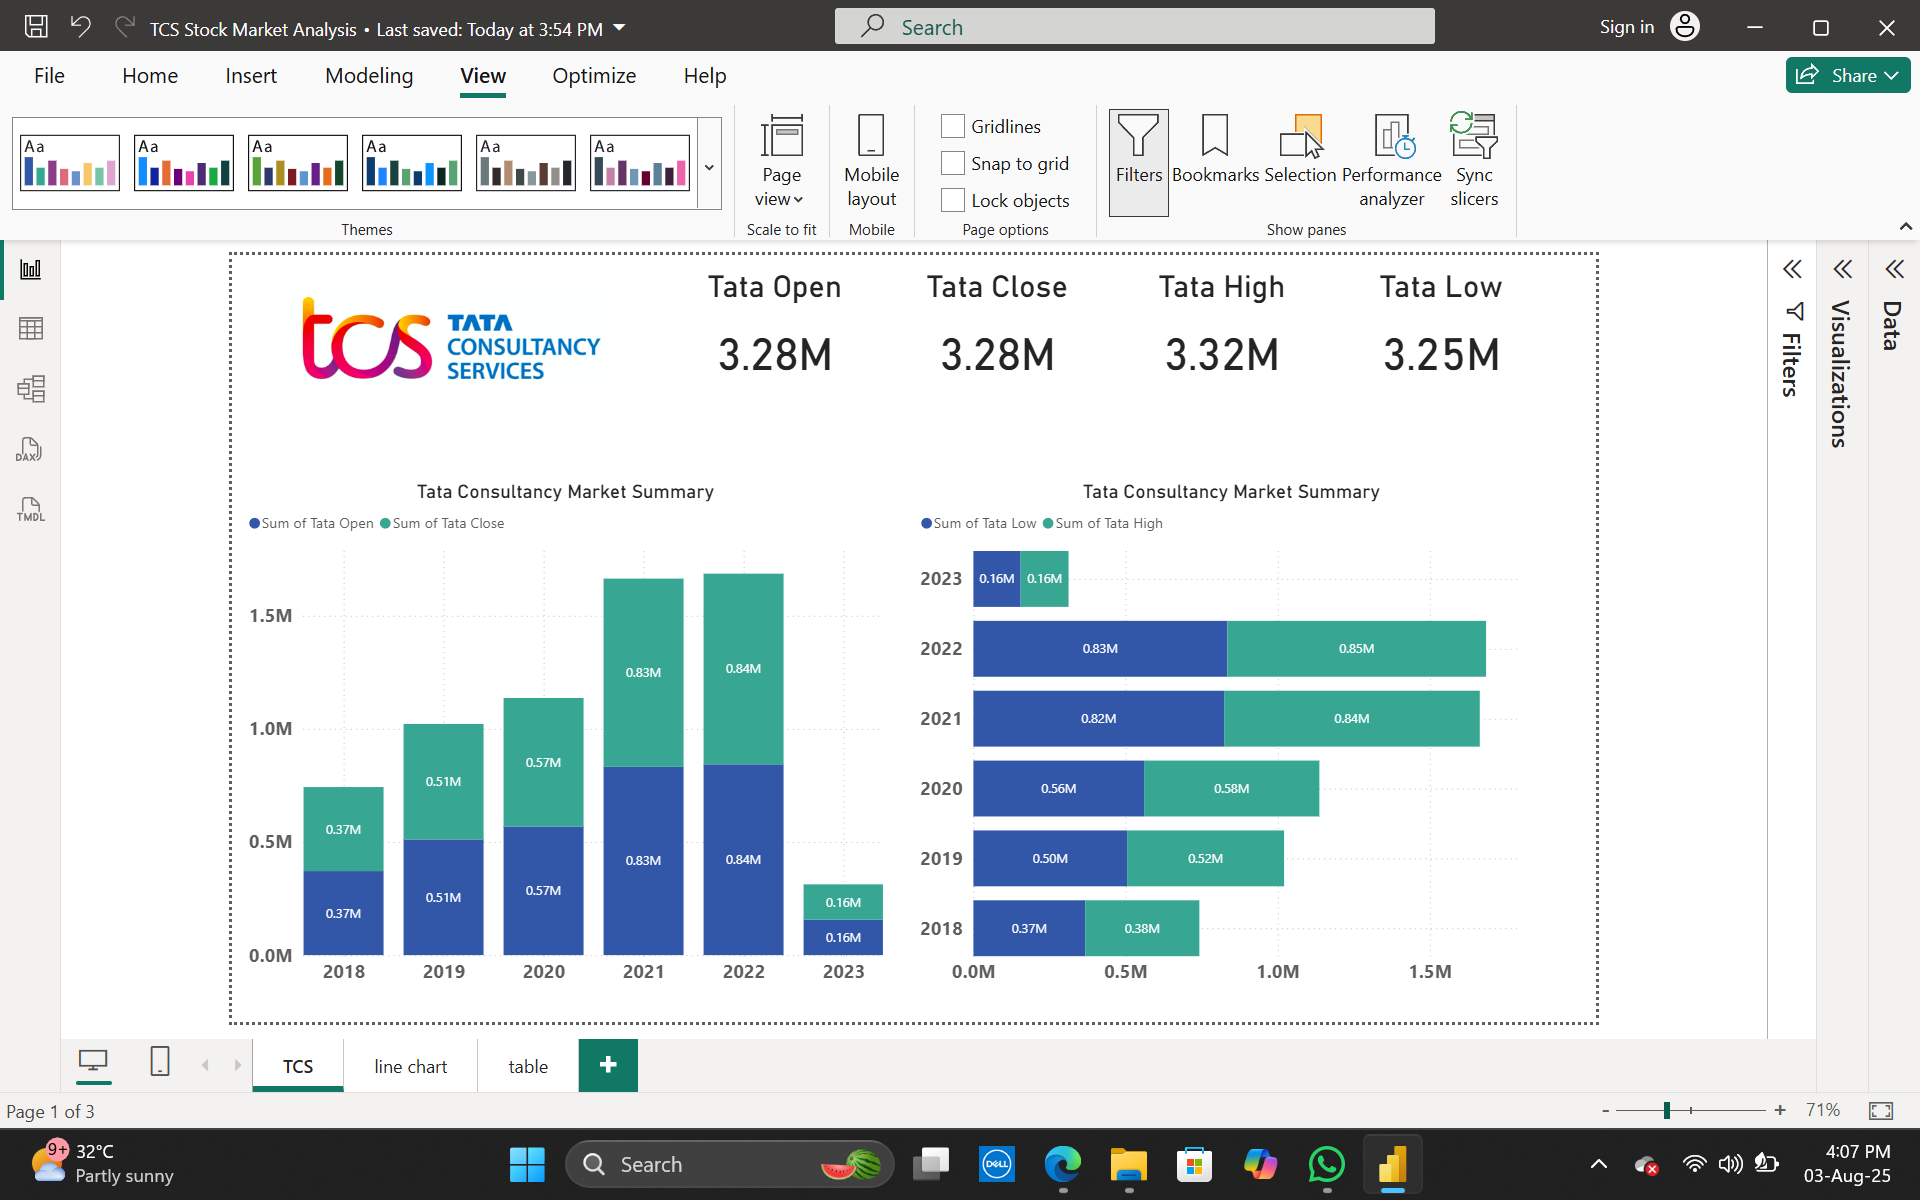

What the dashboard file says about the page in this screenshot:
{"tool":"powerbi","page":{"name":"TCS","canvas":[1280,720],"ordinal":0},"visuals":[{"type":"image","box":[9.4,13.2,393.1,119.1],"z":0},{"type":"card","title":"Tata Open","fields":{"Values":["Sum(TCS NS.Tata Open)"]},"box":[402.5,13.2,213.5,119.1],"z":1000},{"type":"card","title":"Tata Close","fields":{"Values":["Sum(TCS NS.Tata Close)"]},"box":[616.1,13.2,206,119.1],"z":2000},{"type":"card","title":"Tata High","fields":{"Values":["Sum(TCS NS.Tata High)"]},"box":[822.1,13.2,213.5,119.1],"z":3000},{"type":"card","title":"Tata Low","fields":{"Values":["Sum(TCS NS.Tata Low)"]},"box":[1035.6,13.2,200.3,119.1],"z":4000},{"type":"columnChart","title":"Tata Consultancy Market Summary ","fields":{"Category":["TCS NS.Year"],"Y":["Sum(TCS NS.Tata Open)","Sum(TCS NS.Tata Close)"]},"box":[9.4,211.7,606.6,483.8],"z":5000},{"type":"barChart","title":"Tata Consultancy Market Summary ","fields":{"Category":["TCS NS.Year"],"Y":["Sum(TCS NS.Tata Low)","Sum(TCS NS.Tata High)"]},"box":[640.6,211.7,595.3,483.8],"z":6000}]}

Visuals, with their boxes on the page's 1280x720 design canvas (x1, y1, x2, y2). These are canvas units, not pixel positions in the 1920x1200 screenshot, which may show the page scaled, cropped or inside an application window:
image: [9, 13, 402, 132]
"Tata Open" card: [402, 13, 616, 132]
"Tata Close" card: [616, 13, 822, 132]
"Tata High" card: [822, 13, 1036, 132]
"Tata Low" card: [1036, 13, 1236, 132]
"Tata Consultancy Market Summary " columnChart: [9, 212, 616, 696]
"Tata Consultancy Market Summary " barChart: [641, 212, 1236, 696]
